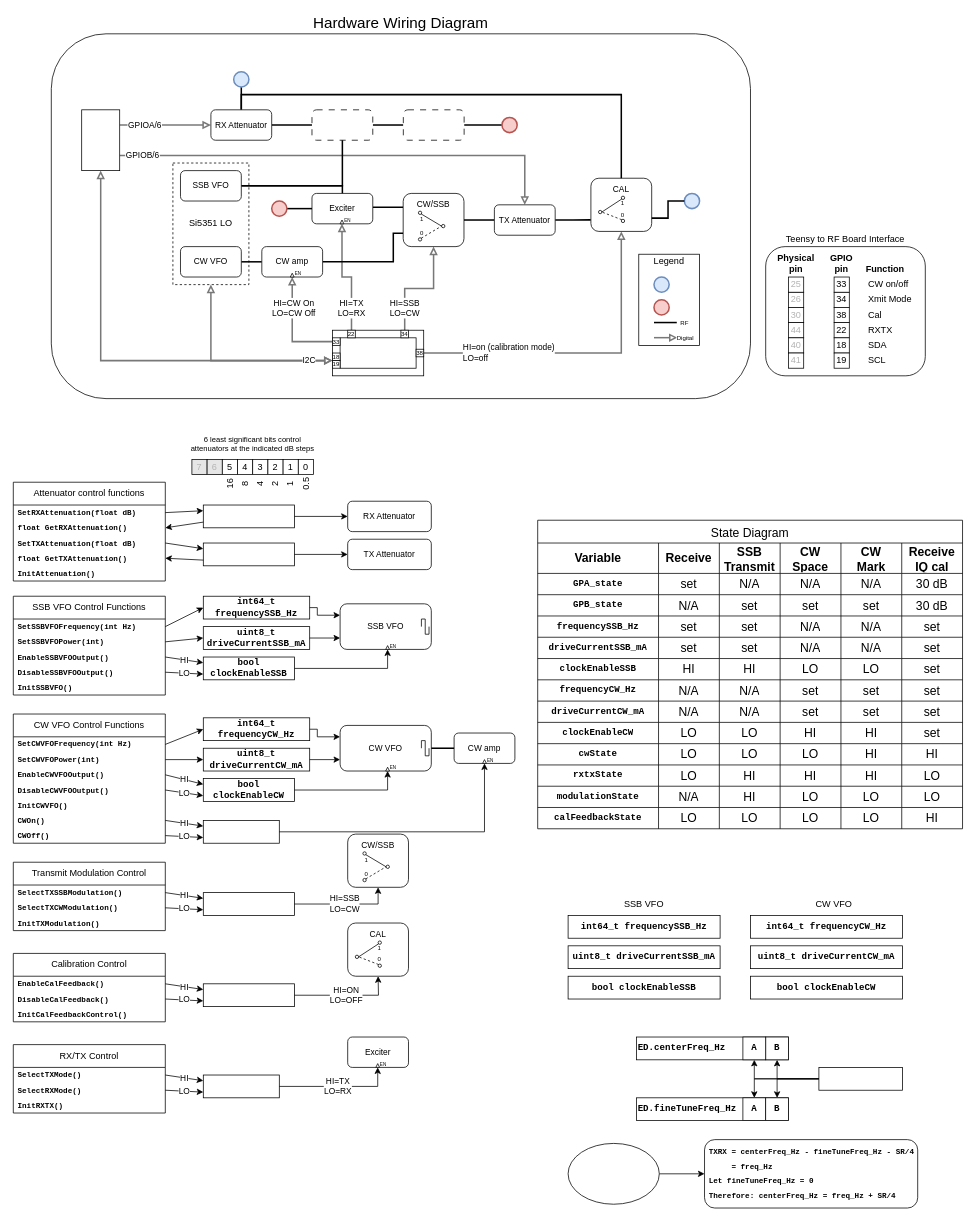
Image size: 976x1221. Some labels were removed from this diagram. Here are the shapes that lost their labels. From the top down, the centre of each, then its label:
At point (241, 79): "RX in".
At point (100, 140): "I2C to GPIO".
At point (342, 124): "Tayloe Mixer".
At point (433, 124): "LPF".
At point (509, 124): "RX IQ out".
At point (279, 208): "TX IQ in".
At point (691, 200): "TX out".
At point (661, 284): "RF IO".
At point (661, 307): "IF IO".
At point (377, 352): "Teensy GPIO".
At point (248, 516): "uint8_t GPA_state".
At point (248, 554): "uint8_t GPB_state".
At point (241, 831): "bool cwState".
At point (248, 903): "bool modulationState".
At point (248, 995): "bool calFeedbackState".
At point (241, 1086): "bool rxtxState".
At point (860, 1078): "ED.activeVFO".
At point (613, 1173): "Set VFO freq to freq_Hz".
